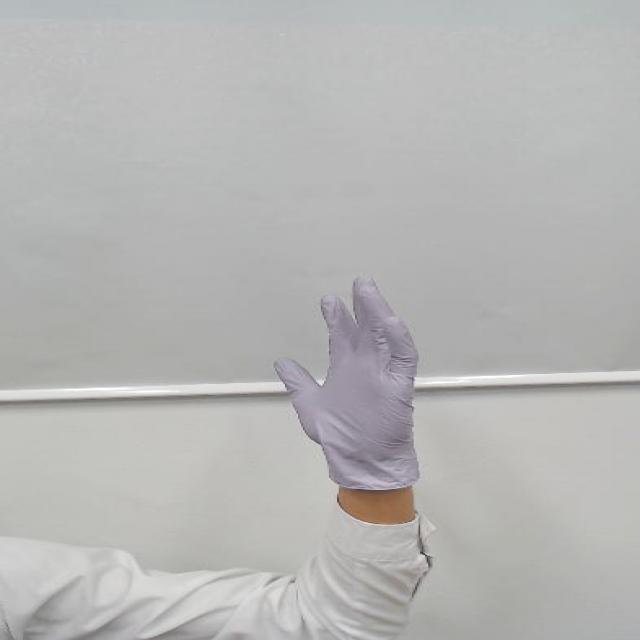with_gloves: (253, 262, 447, 429)
